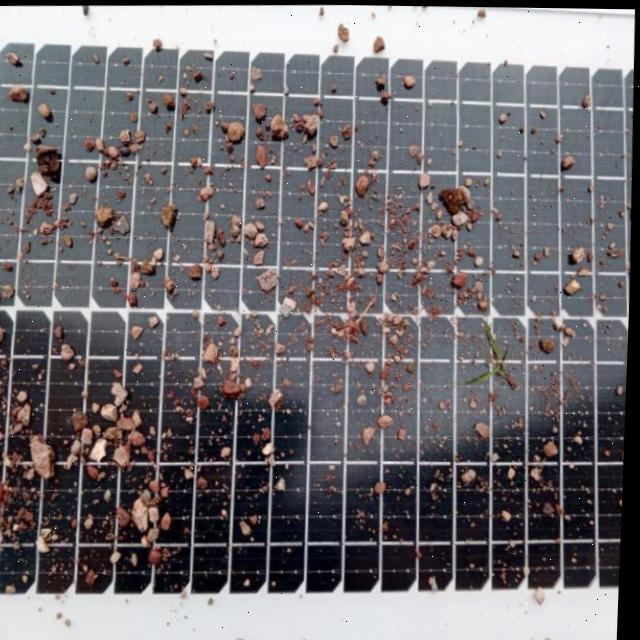Anomaly Solar Panel: (0, 22, 639, 640)
Surface Contaminant: (0, 30, 634, 640)
